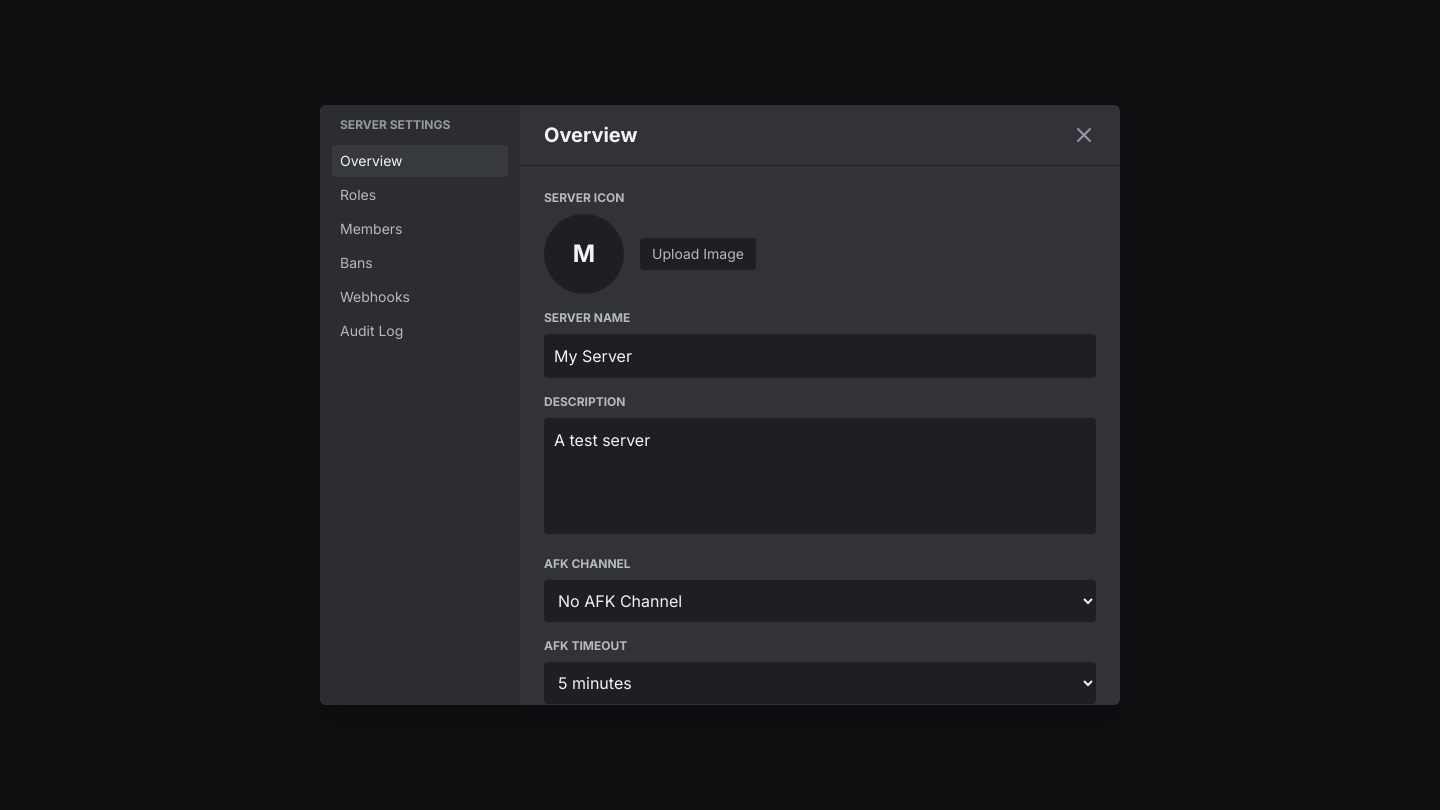
ServerSettingsModal › Members tab › shows member count
Step 1. Click the button "Members" → (420, 229), box [332,213,508,245]
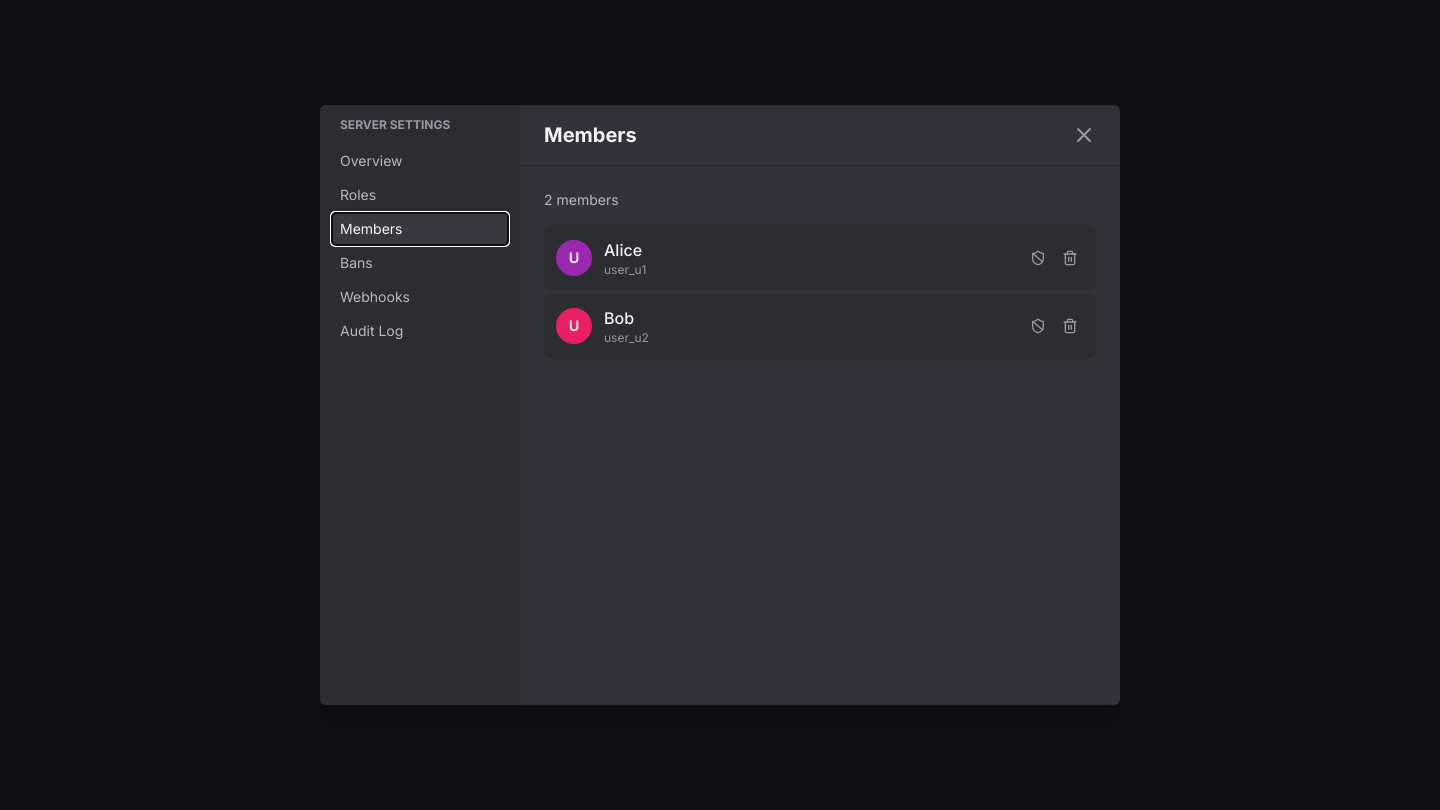
Check: the text "2 members" is shown, box [544,191,619,208]
